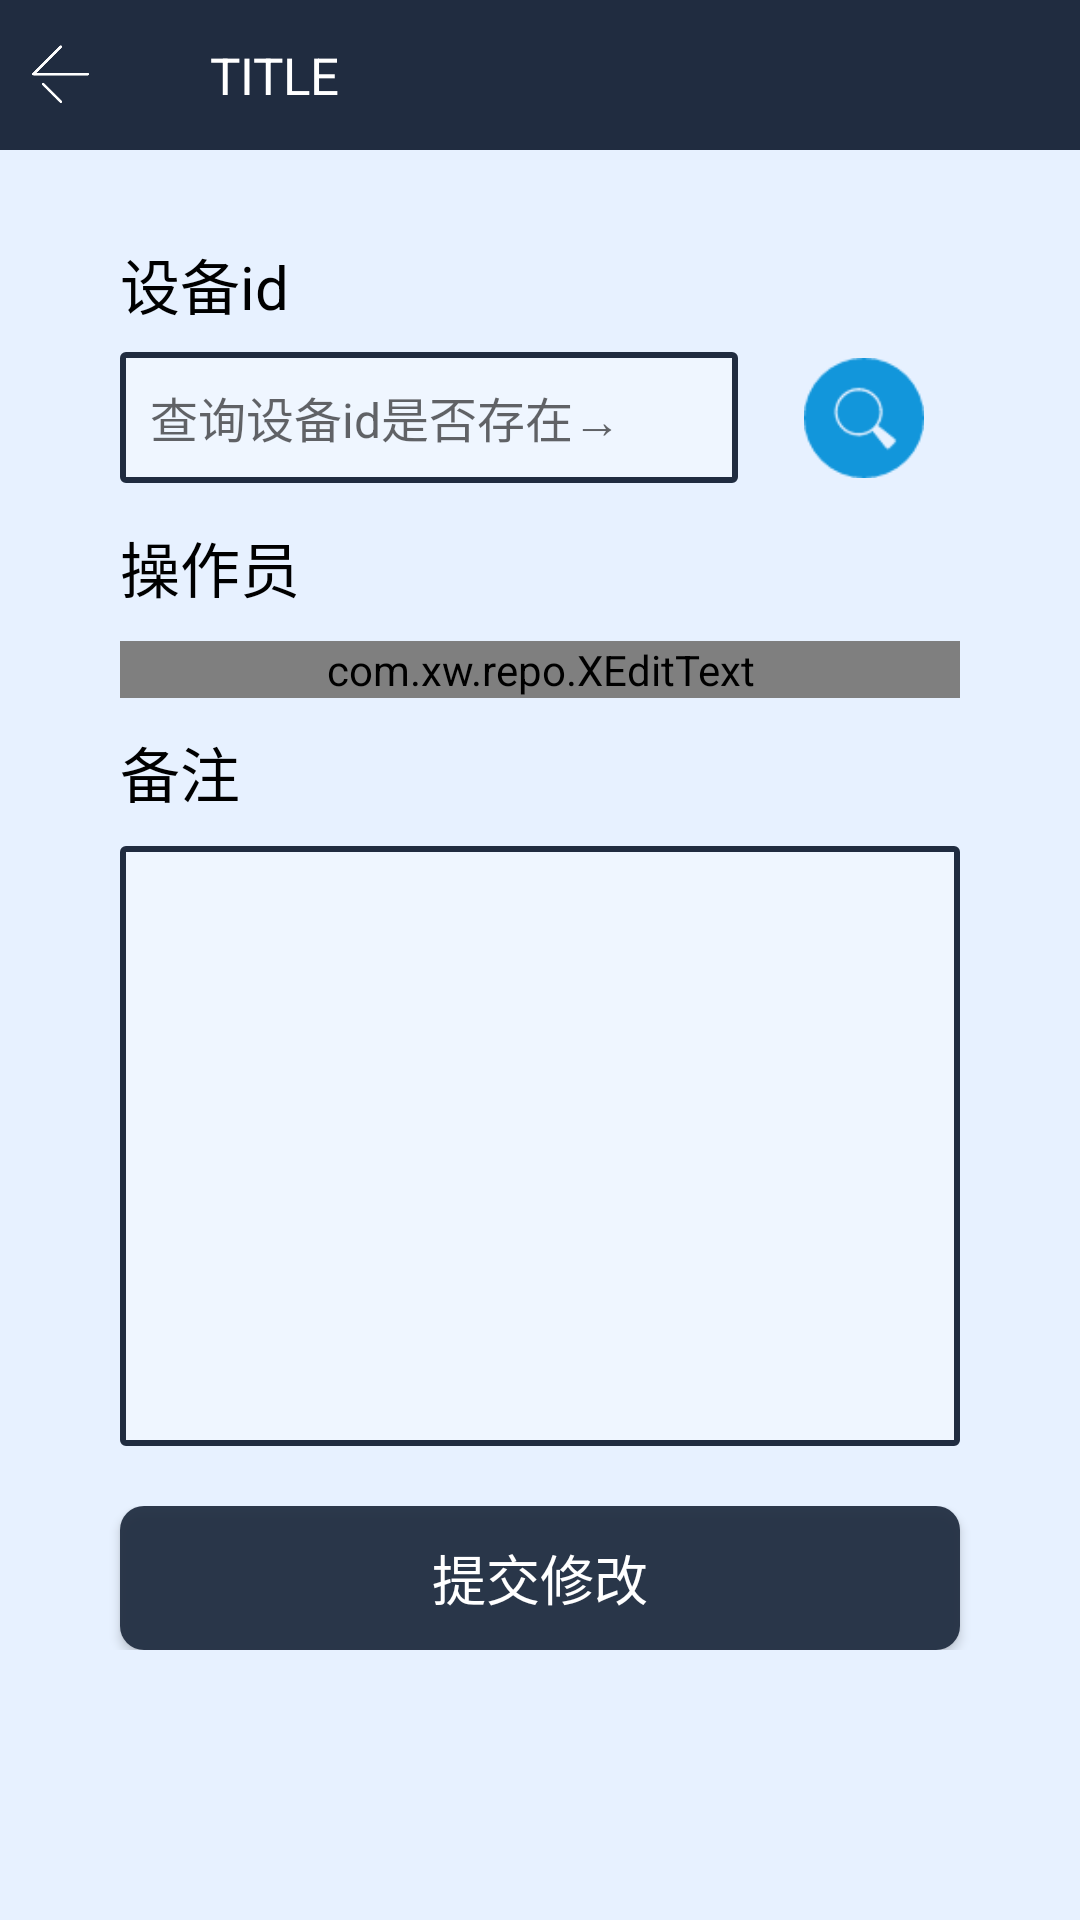

Named icons in this screenshot (1080 × 1920) and their centers, (x=x, y=y):
back: (x=60, y=74)
query: (x=864, y=418)
